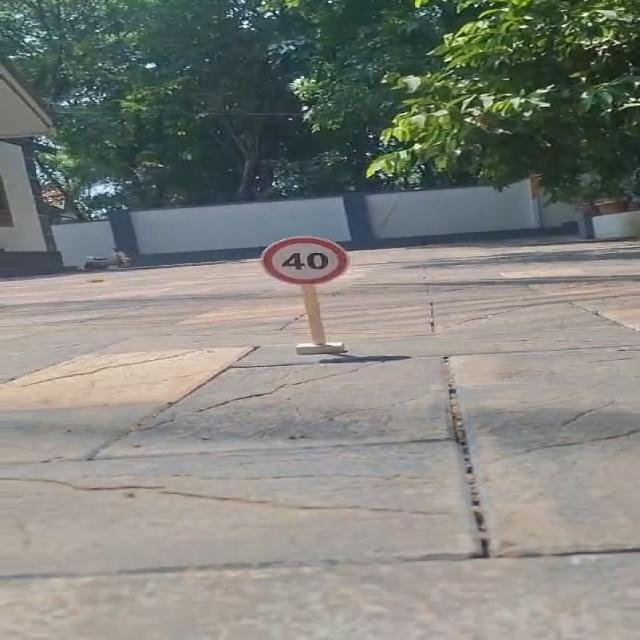Speed40: (256, 234, 356, 286)
